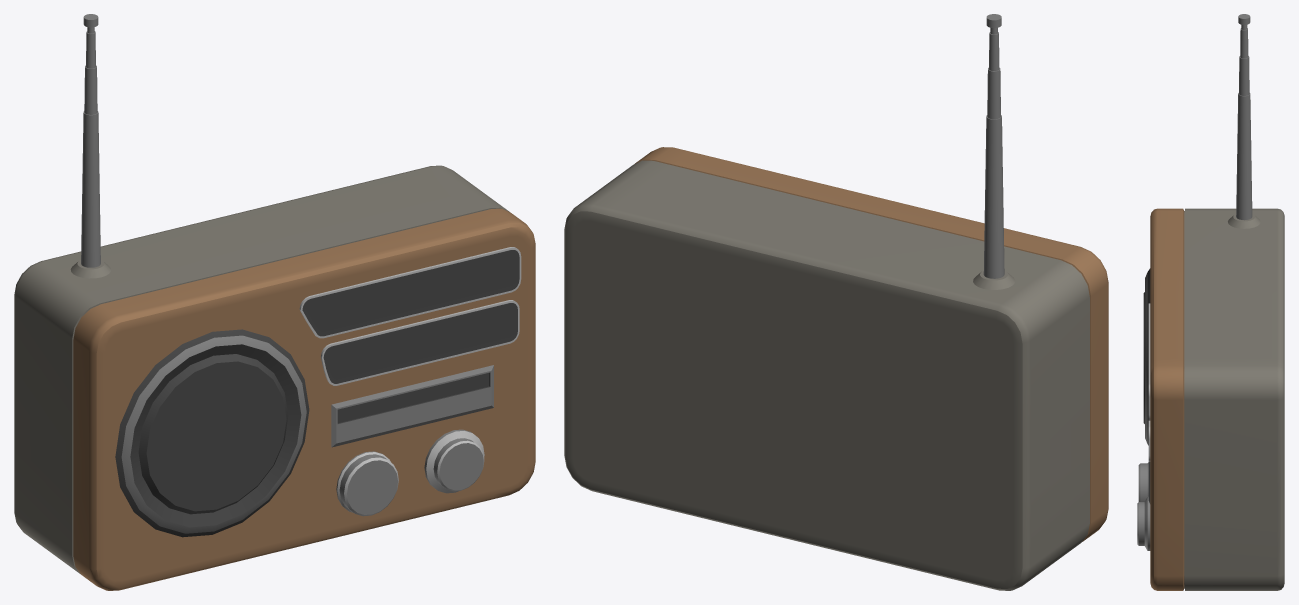
Rendered from prp_radio_02.fbx.
The picture shows the model from 3 angles, left to right: view 1: azimuth 30°, elevation 25°; view 2: azimuth 150°, elevation 25°; view 3: azimuth 270°, elevation 25°; orthographic projection. The views are drawn at different scales.
Visible parts, largest first — view 1: PRP_Radio_01; view 2: PRP_Radio_01; view 3: PRP_Radio_01.
Boxes of the visible parts, <box> form: PRP_Radio_01: <box>14,14,535,590</box>; PRP_Radio_01: <box>564,14,1108,590</box>; PRP_Radio_01: <box>1137,14,1284,590</box>.
Bounding box in the file's own units: 56.18 × 63.53 × 19.8.
